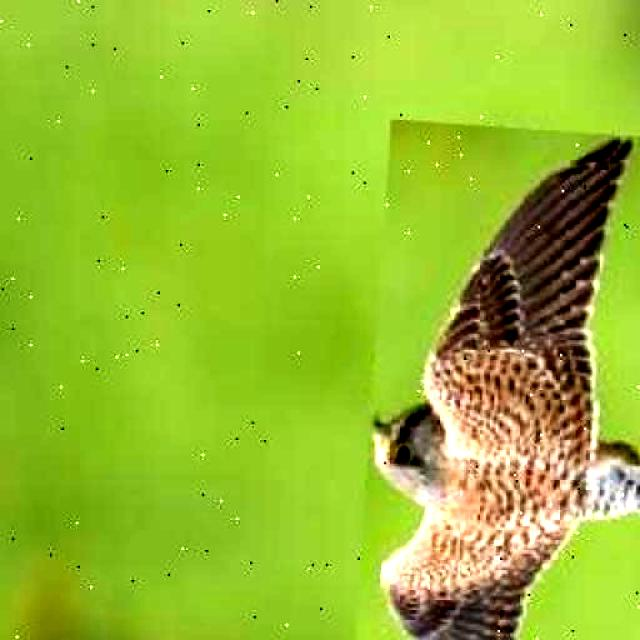airplane: (349, 119, 640, 640)
